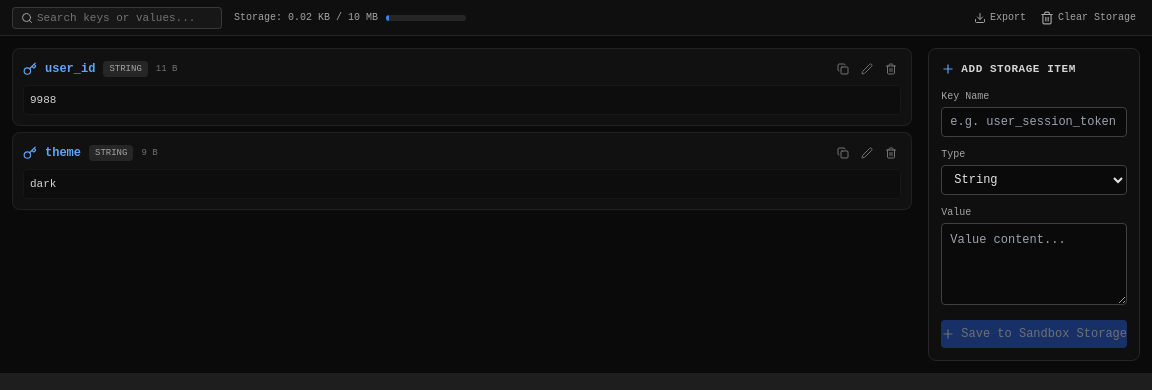
Milestone 4: Multi-Lane Debugger & Storage Suite › 4. StorageExplorer Component › deletes key from storage
Check: the text "user_id" is shown, box [45,61,95,77]
Click the button titled "Delete Key" in the row of "11" at (891, 69), box [881,59,901,79]
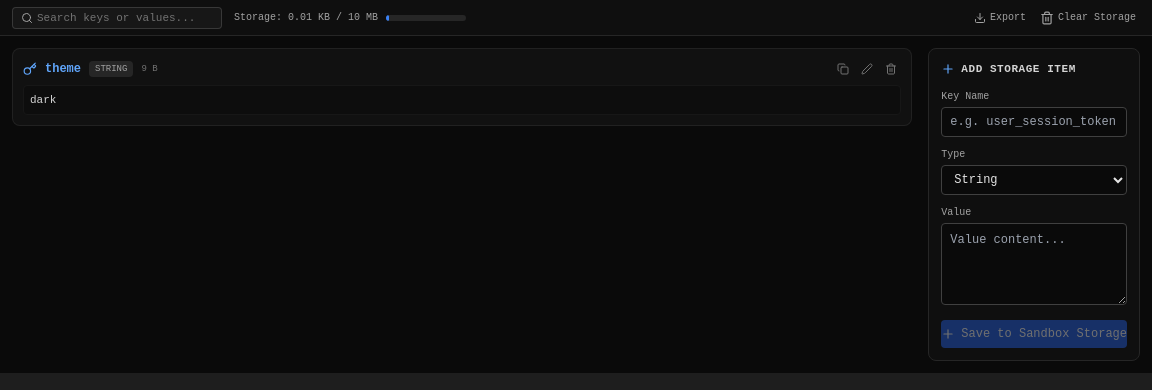
Check: the text "user_id" is gone
